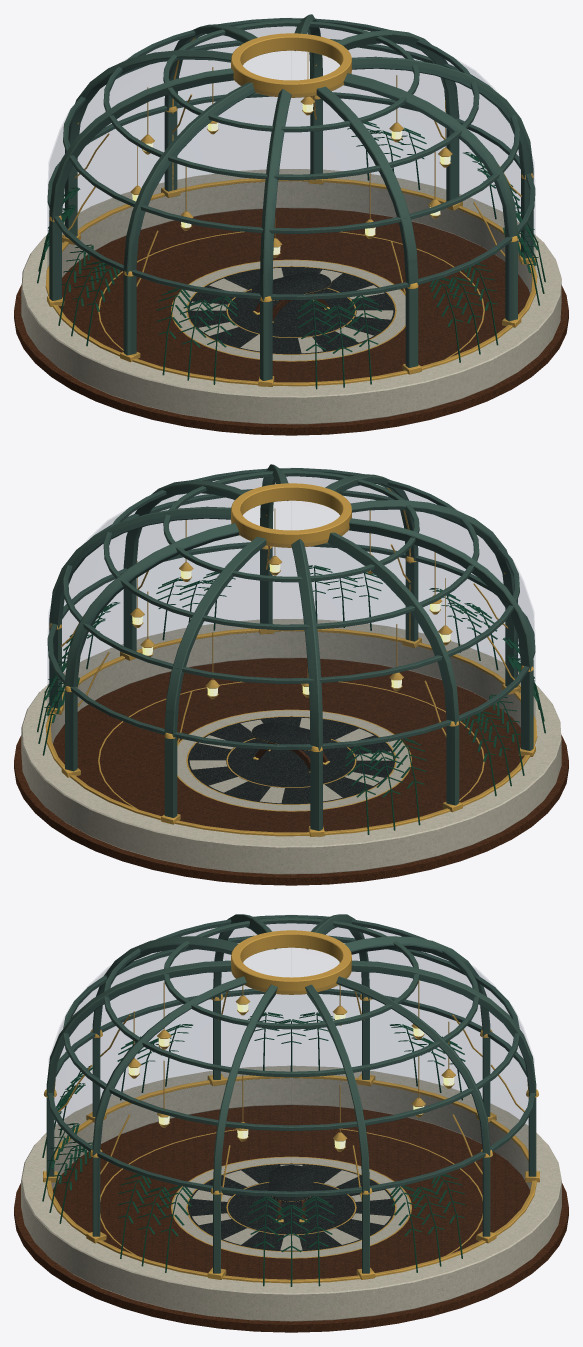
File: rio_canopy_room.glb
3 views of the same model, one above another, from view 1: azimuth 30°, elevation 25°; view 2: azimuth 150°, elevation 25°; view 3: azimuth 270°, elevation 25° (orthographic).
Parts seen in each view (by area): view 1: Rio_Conservatory_IronRibs, Rio_Floor_TeakDeck, Rio_Planter_Limestone, Rio_Window_Glass, Rio_Conservatory_BrassTrim, Rio_Floor_EmeraldMosaic, Rio_Botanical_Foliage, Rio_Floor_CreamLimestone, Rio_Floor_BrassInlay, Rio_Lanterns_Brass, Rio_Table_EmeraldMarble, Rio_Lanterns_AmberGlow; view 2: Rio_Conservatory_IronRibs, Rio_Floor_TeakDeck, Rio_Planter_Limestone, Rio_Window_Glass, Rio_Conservatory_BrassTrim, Rio_Floor_EmeraldMosaic, Rio_Botanical_Foliage, Rio_Floor_CreamLimestone, Rio_Floor_BrassInlay, Rio_Lanterns_Brass, Rio_Table_EmeraldMarble, Rio_Lanterns_AmberGlow; view 3: Rio_Floor_TeakDeck, Rio_Conservatory_IronRibs, Rio_Planter_Limestone, Rio_Window_Glass, Rio_Conservatory_BrassTrim, Rio_Floor_EmeraldMosaic, Rio_Botanical_Foliage, Rio_Floor_CreamLimestone, Rio_Floor_BrassInlay, Rio_Lanterns_Brass, Rio_Table_EmeraldMarble, Rio_Lanterns_AmberGlow.
Part boxes in pixels (box(x1,y1,x2,y2)): Rio_Conservatory_IronRibs: box(47, 14, 535, 380); Rio_Floor_TeakDeck: box(14, 208, 568, 435); Rio_Planter_Limestone: box(21, 169, 561, 424); Rio_Window_Glass: box(48, 18, 534, 383); Rio_Conservatory_BrassTrim: box(45, 33, 537, 386); Rio_Floor_EmeraldMosaic: box(188, 266, 395, 354); Rio_Botanical_Foliage: box(37, 121, 545, 389); Rio_Floor_CreamLimestone: box(172, 260, 405, 360); Rio_Floor_BrassInlay: box(98, 231, 484, 361); Rio_Lanterns_Brass: box(130, 52, 452, 257); Rio_Table_EmeraldMarble: box(252, 272, 330, 300); Rio_Lanterns_AmberGlow: box(132, 104, 450, 254); Rio_Conservatory_IronRibs: box(47, 464, 535, 830); Rio_Floor_TeakDeck: box(14, 658, 568, 885); Rio_Planter_Limestone: box(21, 619, 561, 874); Rio_Window_Glass: box(48, 468, 534, 833); Rio_Conservatory_BrassTrim: box(45, 483, 537, 836); Rio_Floor_EmeraldMosaic: box(187, 716, 394, 804); Rio_Botanical_Foliage: box(37, 565, 545, 834); Rio_Floor_CreamLimestone: box(177, 710, 410, 810); Rio_Floor_BrassInlay: box(98, 681, 484, 811); Rio_Lanterns_Brass: box(130, 508, 452, 699); Rio_Table_EmeraldMarble: box(252, 722, 330, 750); Rio_Lanterns_AmberGlow: box(132, 564, 450, 696); Rio_Floor_TeakDeck: box(14, 1105, 568, 1332); Rio_Conservatory_IronRibs: box(46, 914, 536, 1273); Rio_Planter_Limestone: box(21, 1065, 561, 1321); Rio_Window_Glass: box(54, 915, 528, 1243); Rio_Conservatory_BrassTrim: box(43, 930, 539, 1283); Rio_Floor_EmeraldMosaic: box(187, 1163, 395, 1251); Rio_Botanical_Foliage: box(42, 1012, 465, 1286); Rio_Floor_CreamLimestone: box(172, 1157, 410, 1257); Rio_Floor_BrassInlay: box(100, 1128, 482, 1258); Rio_Lanterns_Brass: box(128, 962, 455, 1151); Rio_Table_EmeraldMarble: box(269, 1165, 313, 1202); Rio_Lanterns_AmberGlow: box(128, 1003, 454, 1148).
Bounding box in the file's own units: 15.7 × 8.11 × 15.7.
9 materials, 3 textured.
